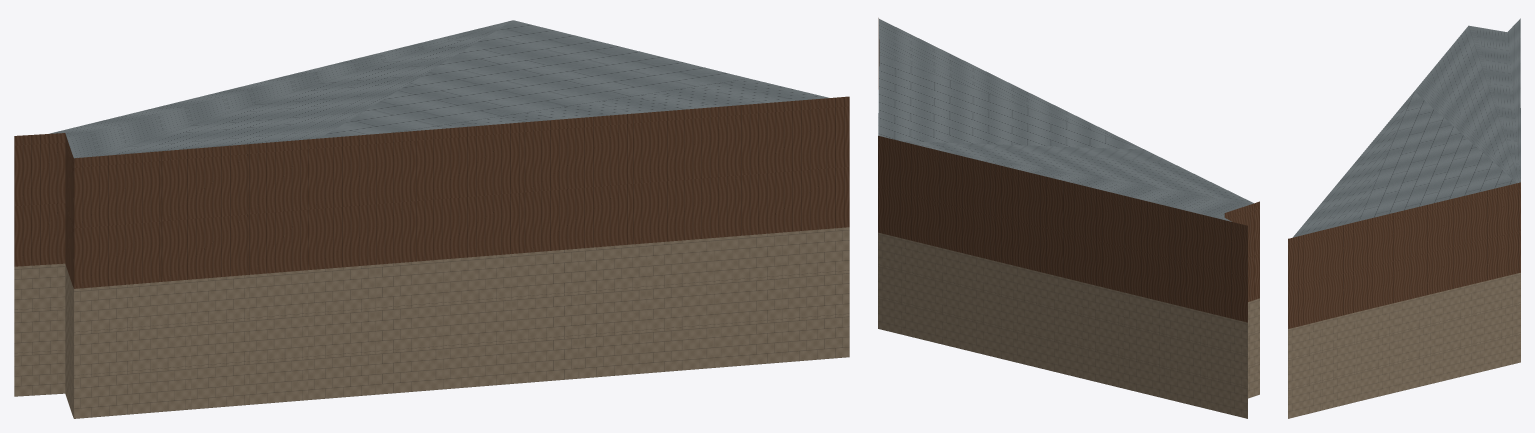
The model's file is bld_c4_-2_555.gltf.
3 views of the same model, side by side, from view 1: azimuth 30°, elevation 25°; view 2: azimuth 150°, elevation 25°; view 3: azimuth 270°, elevation 25° (orthographic). The views are drawn at different scales.
Visible parts, largest first — view 1: bld_c4_-2_555; view 2: bld_c4_-2_555; view 3: bld_c4_-2_555.
Part boxes in pixels (x1,y1,x2,y2): bld_c4_-2_555: (14, 20, 849, 418); bld_c4_-2_555: (878, 18, 1259, 418); bld_c4_-2_555: (1288, 18, 1520, 418).
Size of the model in its own units: 26.99 by 10.08 by 11.82.
4 materials, 4 textured.
